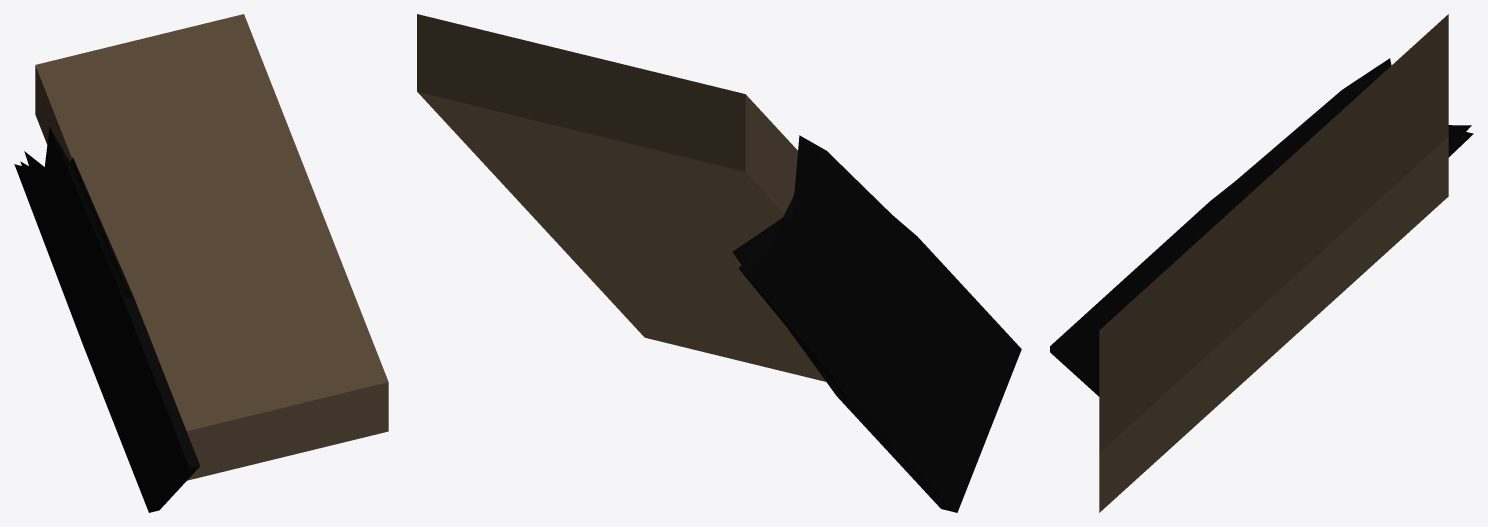
File: dach_ortgang_1m_l_kaputt.glb
3 renders of one model, left to right at view 1: azimuth 30°, elevation 25°; view 2: azimuth 150°, elevation 25°; view 3: azimuth 270°, elevation 25°, orthographic. The views are drawn at different scales.
Parts seen in each view (by area): view 1: dach_ortgang_1m_l_kaputt; view 2: dach_ortgang_1m_l_kaputt; view 3: dach_ortgang_1m_l_kaputt.
Part boxes in pixels (bbox=[...]): dach_ortgang_1m_l_kaputt: bbox=[14, 14, 388, 512]; dach_ortgang_1m_l_kaputt: bbox=[417, 14, 1021, 512]; dach_ortgang_1m_l_kaputt: bbox=[1050, 14, 1473, 512].
Size of the model in its own units: 0.525 by 0.8114 by 0.7286.
